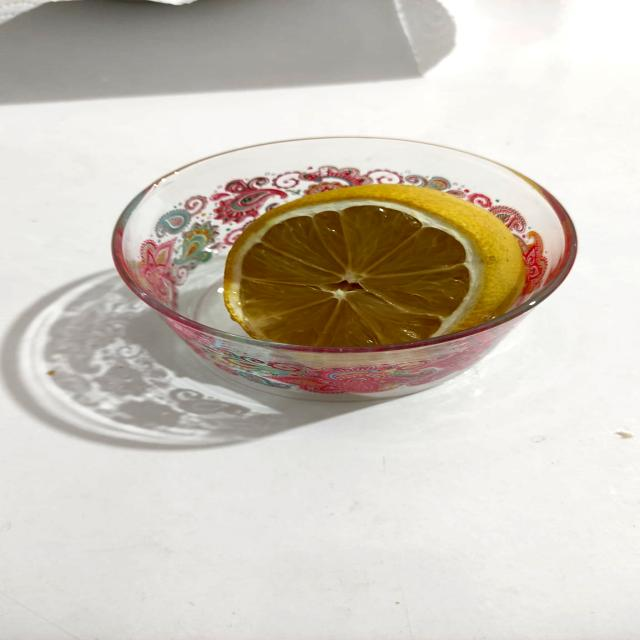lemon: (213, 178, 538, 368)
